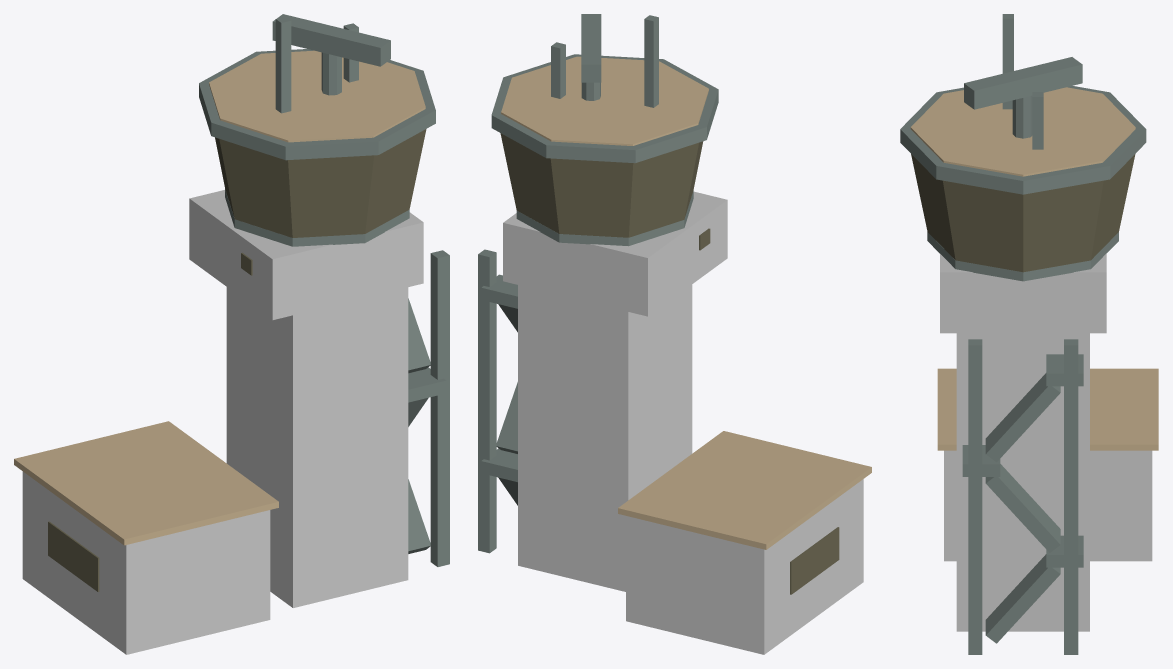
Rendered from SM_TorreControl_v3_LOD1.fbx.
3 views of the same model, side by side, from view 1: azimuth 30°, elevation 25°; view 2: azimuth 150°, elevation 25°; view 3: azimuth 270°, elevation 25° (orthographic). The views are drawn at different scales.
Parts seen in each view (by area): view 1: SM_torre_control_v3_LOD1; view 2: SM_torre_control_v3_LOD1; view 3: SM_torre_control_v3_LOD1.
Part boxes in pixels (bbox=[...]): SM_torre_control_v3_LOD1: bbox=[14, 14, 449, 654]; SM_torre_control_v3_LOD1: bbox=[478, 14, 871, 654]; SM_torre_control_v3_LOD1: bbox=[900, 14, 1158, 654].
Size of the model in its own units: 9.5 by 15.01 by 6.2.
